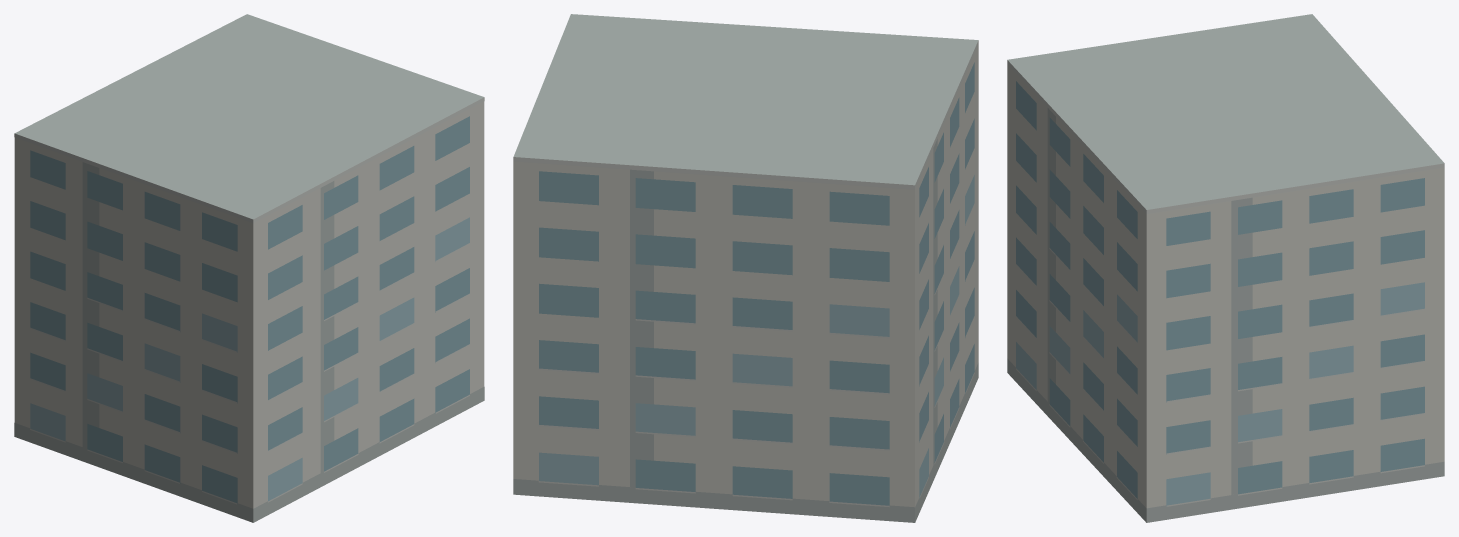
File: survey-upis-32862008.glb
The picture shows the model from 3 angles, left to right: view 1: azimuth 30°, elevation 25°; view 2: azimuth 150°, elevation 25°; view 3: azimuth 270°, elevation 25°; orthographic projection. The views are drawn at different scales.
Visible parts, largest first — view 1: survey-upis-32862008.tmp; view 2: survey-upis-32862008.tmp; view 3: survey-upis-32862008.tmp.
Part boxes in pixels (x1,y1,x2,y2): survey-upis-32862008.tmp: (14,14,484,522); survey-upis-32862008.tmp: (513,14,978,522); survey-upis-32862008.tmp: (1007,14,1444,522).
Bounding box in the file's own units: 24.6 × 18.3 × 23.2.
